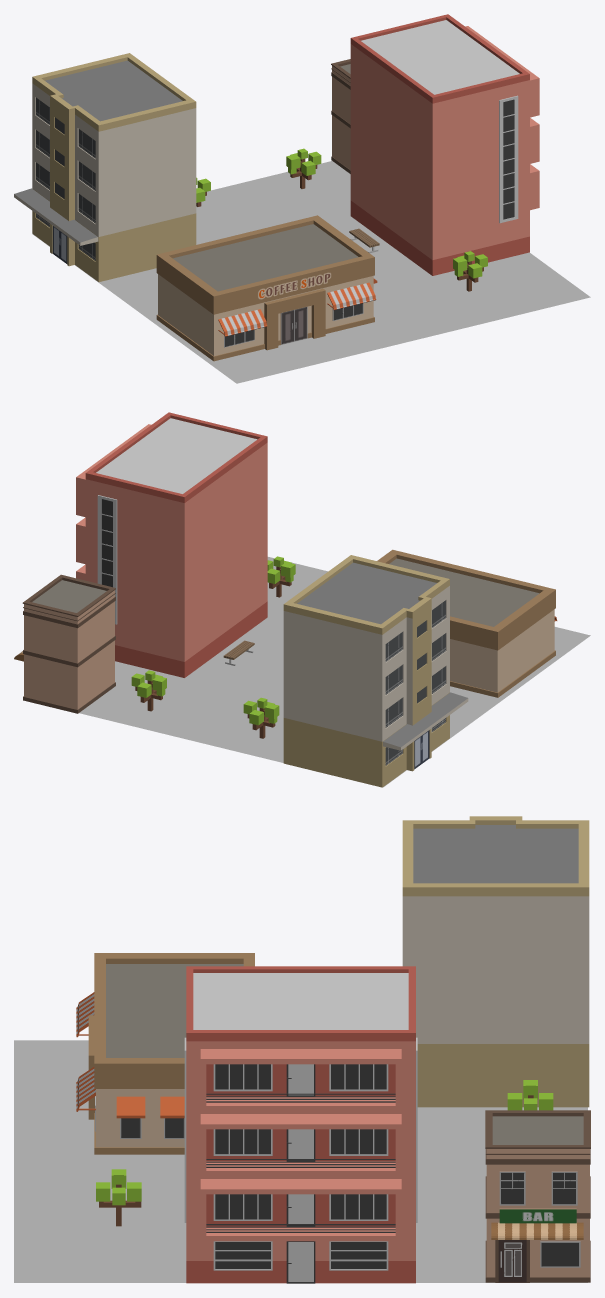
The model's file is apartments.gltf.
3 views of the same model, one above another, from view 1: azimuth 30°, elevation 25°; view 2: azimuth 150°, elevation 25°; view 3: azimuth 270°, elevation 25° (orthographic). The views are drawn at different scales.
Visible parts, largest first — view 1: Building_Residential_color01_Cube.013, Building Sky_small_color01_Cube.028, Road Concrete Tile_Plane.010, Building_Coffee Shop_Cube.010, Building_Bar_Cube.002, Natures_Cube Tree_Cube.017 (×2); view 2: Building_Residential_color01_Cube.013, Building Sky_small_color01_Cube.028, Road Concrete Tile_Plane.010, Building_Coffee Shop_Cube.010, Building_Bar_Cube.002, Natures_Cube Tree_Cube.017 (×3); view 3: Building_Residential_color01_Cube.013, Building Sky_small_color01_Cube.028, Road Concrete Tile_Plane.010, Building_Coffee Shop_Cube.010, Building_Bar_Cube.002, Natures_Cube Tree_Cube.017 (×2).
Boxes of the visible parts, <box> form: Building_Residential_color01_Cube.013: <box>350,14,539,275</box>; Building Sky_small_color01_Cube.028: <box>14,53,196,281</box>; Road Concrete Tile_Plane.010: <box>32,161,590,383</box>; Building_Coffee Shop_Cube.010: <box>156,215,377,361</box>; Building_Bar_Cube.002: <box>331,59,350,173</box>; Natures_Cube Tree_Cube.017 (×2): <box>286,148,487,291</box>; Building_Residential_color01_Cube.013: <box>76,412,267,677</box>; Building Sky_small_color01_Cube.028: <box>283,555,468,787</box>; Road Concrete Tile_Plane.010: <box>79,557,590,787</box>; Building_Coffee Shop_Cube.010: <box>377,549,557,697</box>; Building_Bar_Cube.002: <box>14,574,115,713</box>; Natures_Cube Tree_Cube.017 (×3): <box>131,556,295,738</box>; Building_Residential_color01_Cube.013: <box>184,966,417,1283</box>; Building Sky_small_color01_Cube.028: <box>402,816,589,1107</box>; Road Concrete Tile_Plane.010: <box>14,1040,587,1282</box>; Building_Coffee Shop_Cube.010: <box>76,953,254,1154</box>; Building_Bar_Cube.002: <box>485,1110,590,1282</box>; Natures_Cube Tree_Cube.017 (×2): <box>96,1080,553,1226</box>.
Size of the model in its own units: 43.71 by 19.24 by 40.2.
Materials: 7 (7 with a texture image).
